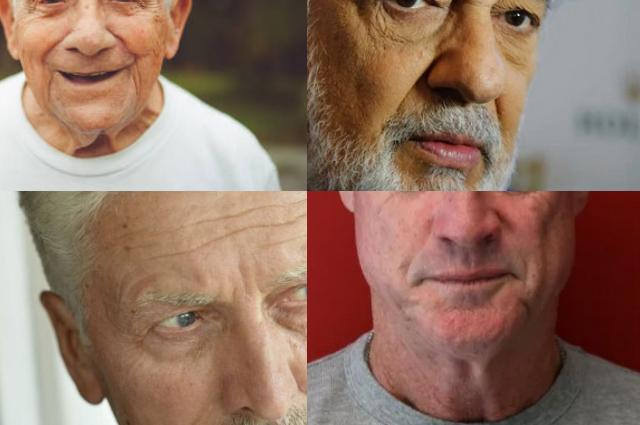crows_feet: (124, 327, 148, 356), (358, 0, 382, 20), (23, 0, 36, 14)
forehead: (250, 202, 286, 232), (149, 242, 193, 265), (202, 228, 245, 248), (192, 210, 238, 226), (293, 192, 307, 226)
frown_line: (231, 266, 251, 292)
gummy_smile: (396, 68, 420, 110), (37, 34, 65, 52), (110, 27, 130, 52), (492, 96, 504, 122), (299, 381, 307, 414)
sad_smile: (128, 70, 146, 102), (40, 69, 56, 103)
